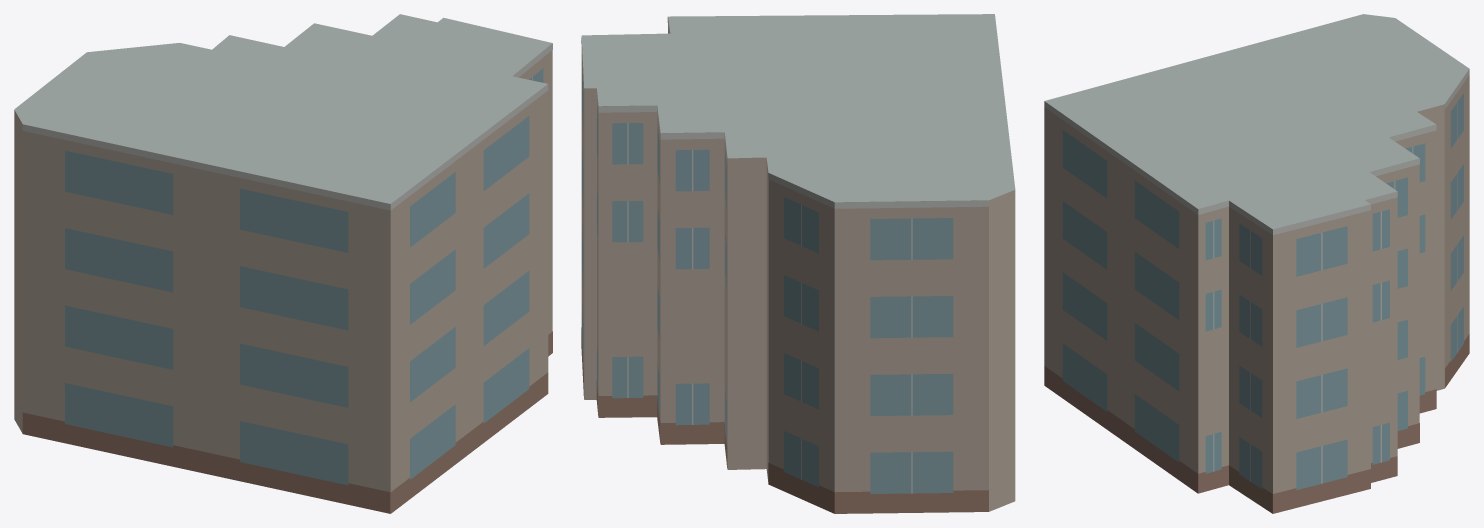
File: survey-upis-32869501.glb
The picture shows the model from 3 angles, left to right: view 1: azimuth 30°, elevation 25°; view 2: azimuth 150°, elevation 25°; view 3: azimuth 270°, elevation 25°; orthographic projection. The views are drawn at different scales.
Visible parts, largest first — view 1: survey-upis-32869501.tmp; view 2: survey-upis-32869501.tmp; view 3: survey-upis-32869501.tmp.
Boxes of the visible parts, x1,y1,x2,y2 form: survey-upis-32869501.tmp: [14, 14, 552, 513]; survey-upis-32869501.tmp: [581, 14, 1015, 513]; survey-upis-32869501.tmp: [1044, 14, 1469, 513].
Bounding box in the file's own units: 19.01 × 11.7 × 15.86.
